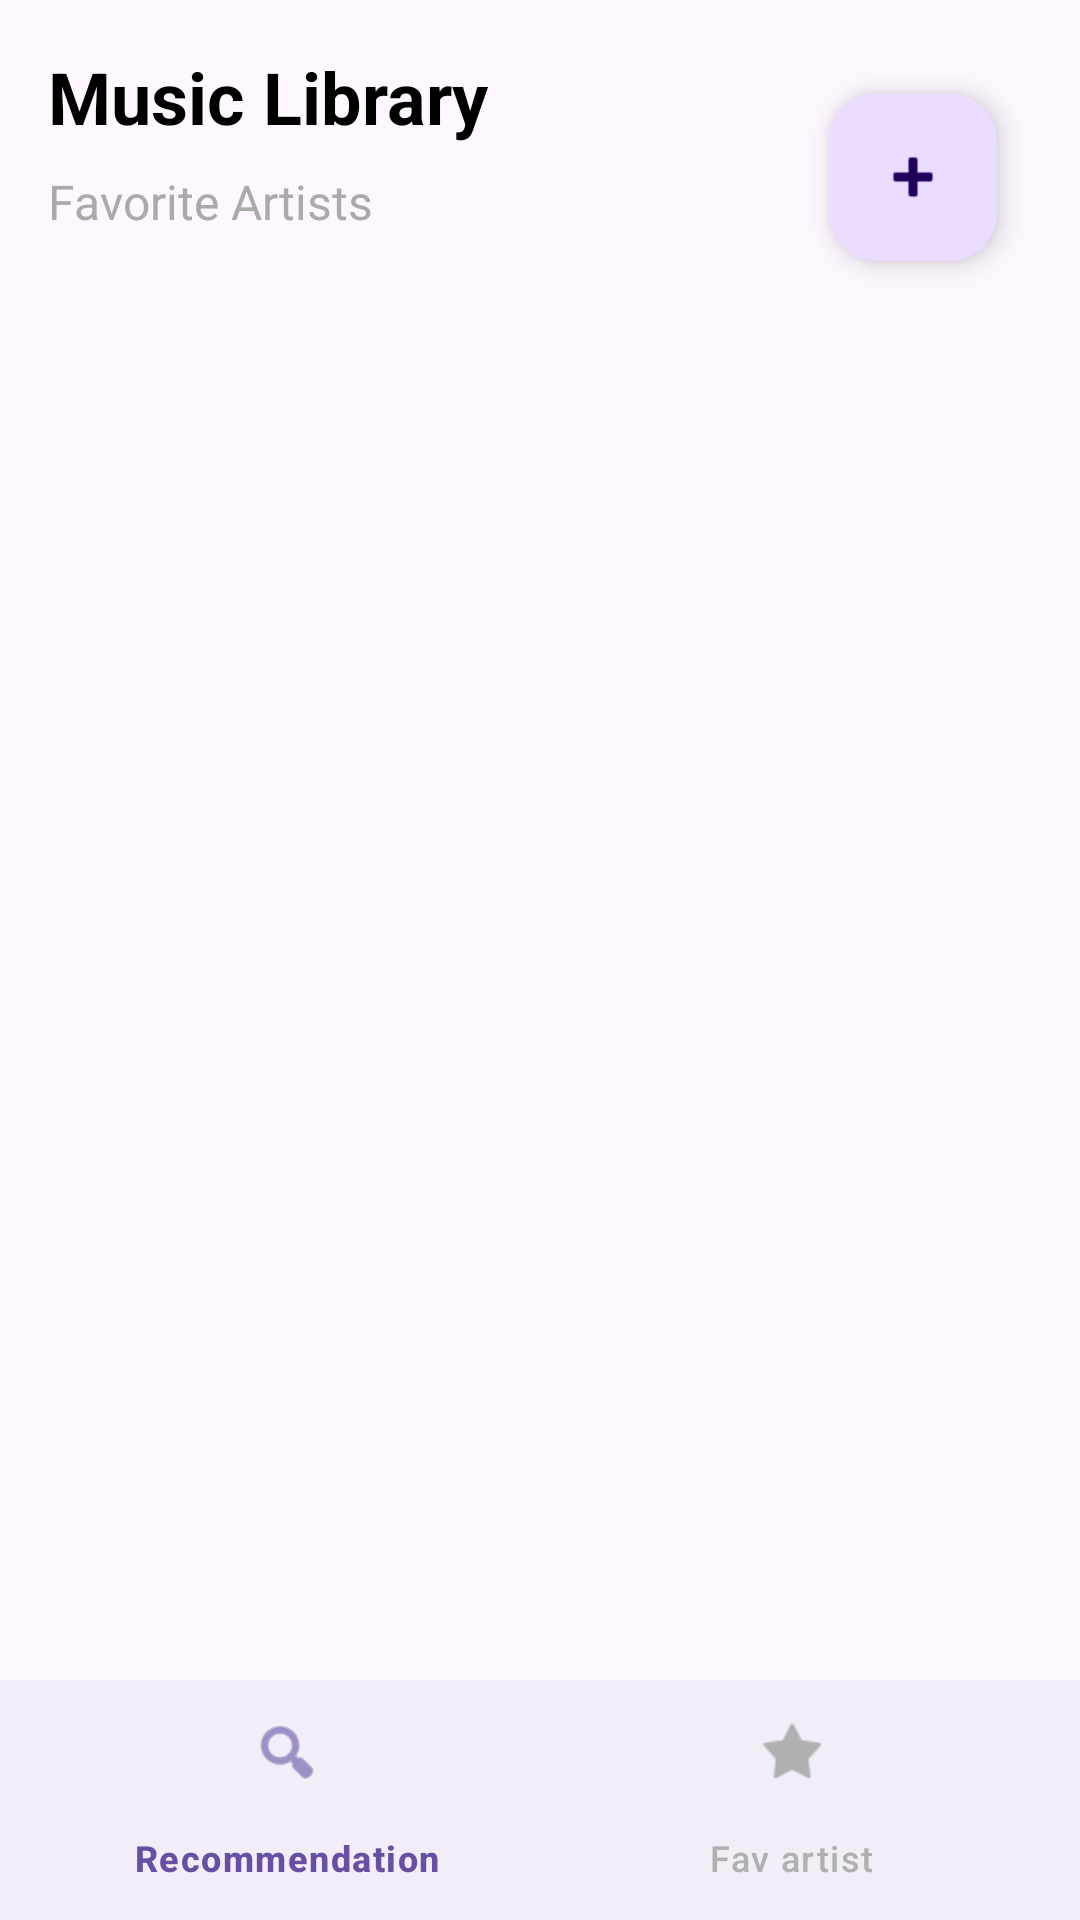

Icons on this 1080px×1920px Android screen, each with the point to tap as [x,y]:
Add Artist: [913,177]
